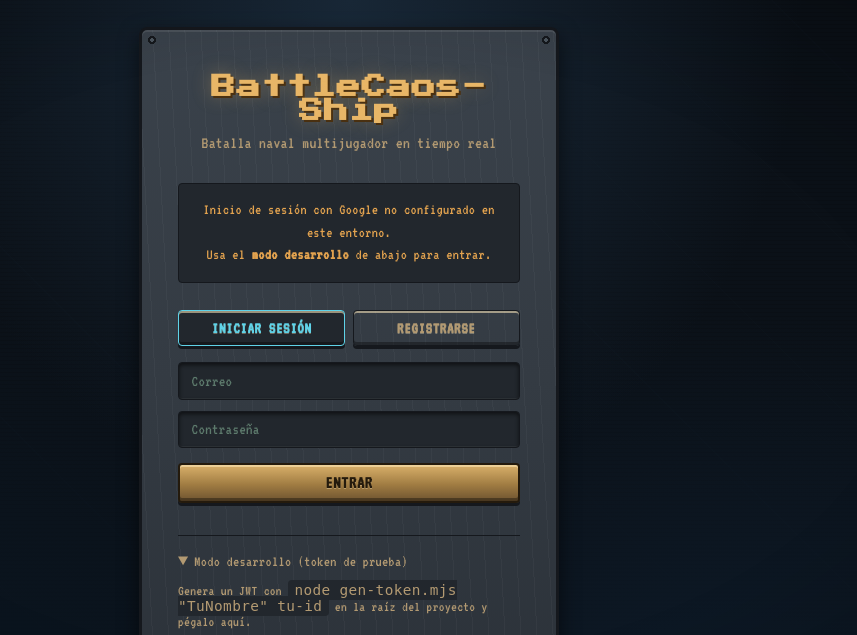
Test: LoginPage › contraseña incorrecta muestra el mensaje mapeado por LOCAL_AUTH_ERRORS (credenciales_invalidas)
This screenshot has width=857, height=635.
Type "ana@test.com" into the field with placeholder "Correo" at (349, 381), box [178, 362, 520, 400]
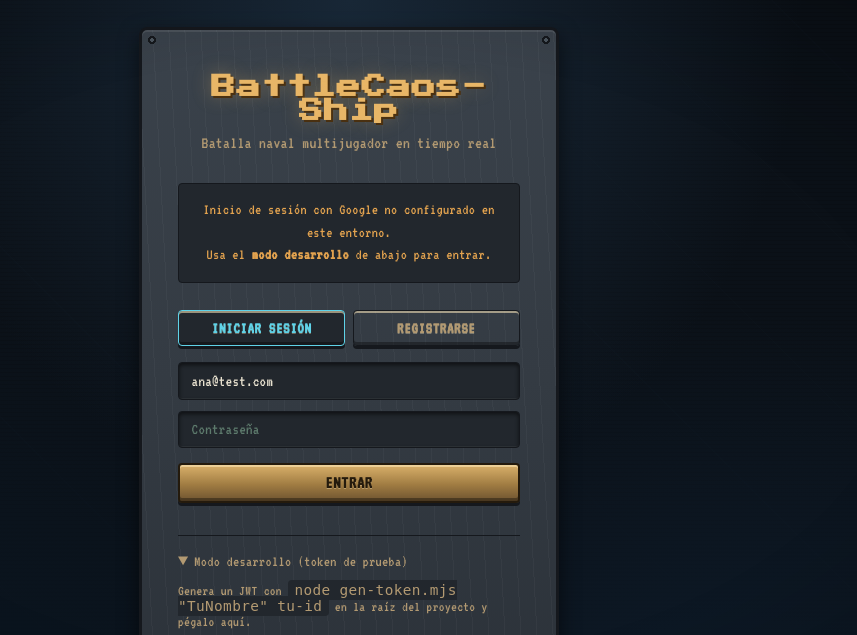
Type "malapass" into the password field with placeholder "Contraseña" at (349, 429), box [178, 410, 520, 448]
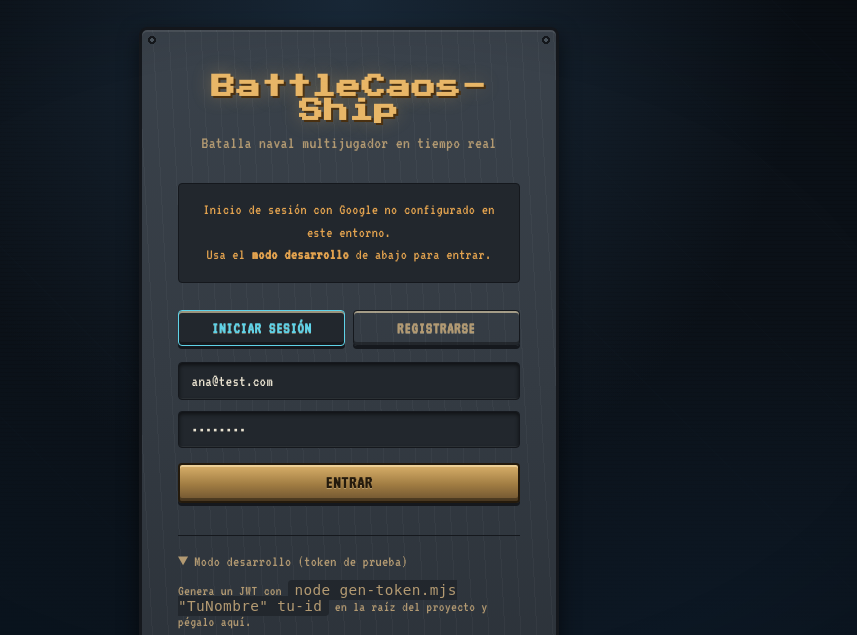
Click the button "Entrar" at (349, 483), box [178, 463, 520, 503]
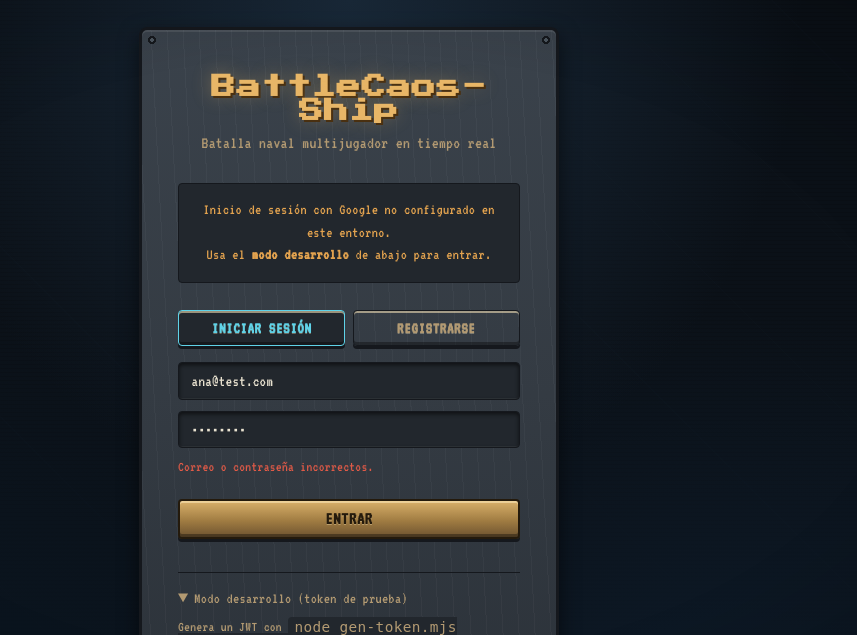
Expected: the message reads "Correo o contraseña incorrectos.", [178, 459, 374, 474]
